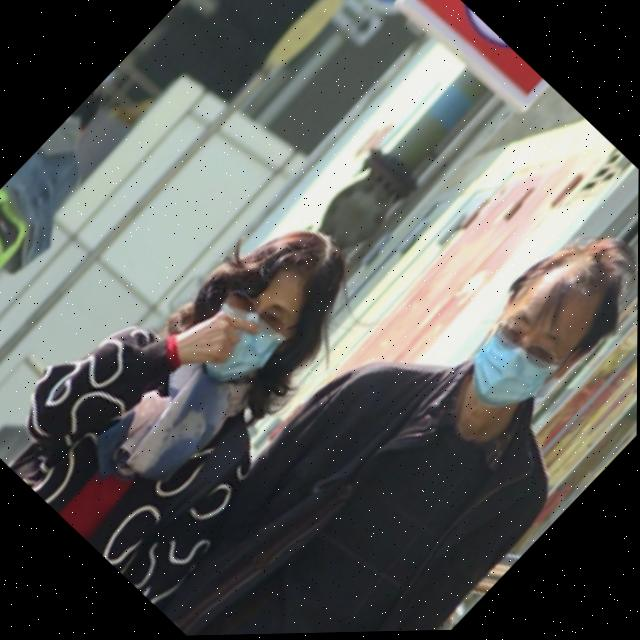Mask: (441, 297, 587, 445), (173, 272, 303, 404)
